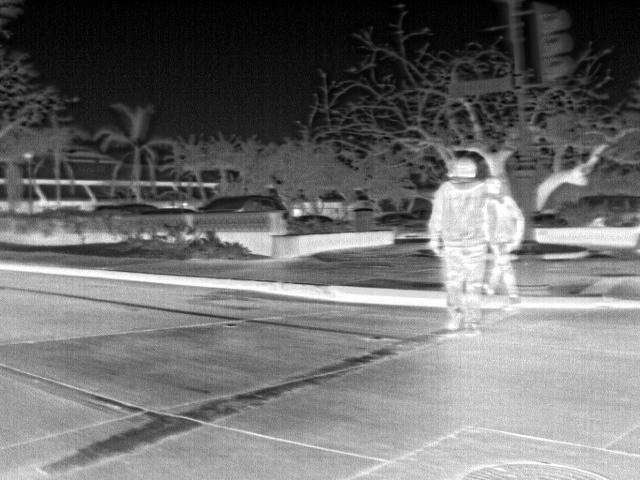car: (554, 193, 640, 228), (198, 195, 287, 214), (376, 211, 424, 231), (532, 212, 567, 227), (122, 204, 159, 216)
person: (428, 156, 488, 332), (486, 176, 526, 305)
